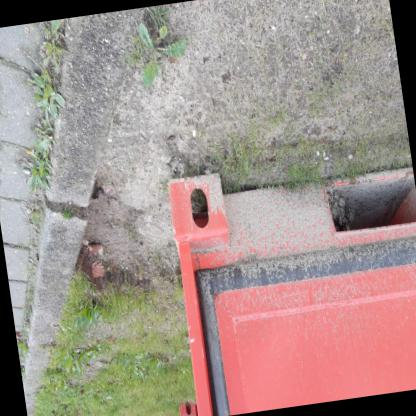CornerCasting: (160, 165, 236, 261)
